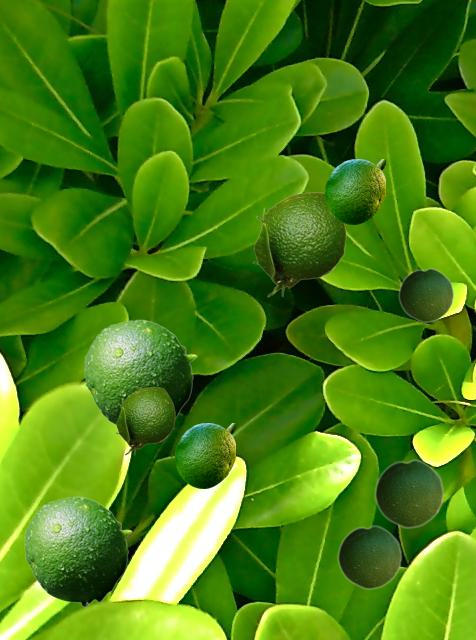dalandan: (24, 496, 131, 606), (84, 319, 196, 424), (252, 192, 345, 296), (374, 458, 443, 528), (337, 524, 401, 589), (115, 387, 174, 454), (175, 423, 234, 487), (325, 159, 384, 223), (398, 267, 453, 322)
